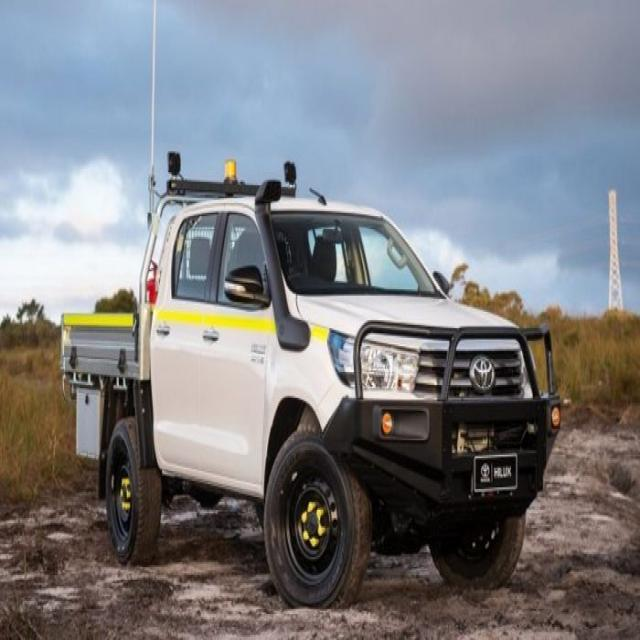light_vehicle: (55, 164, 563, 612)
